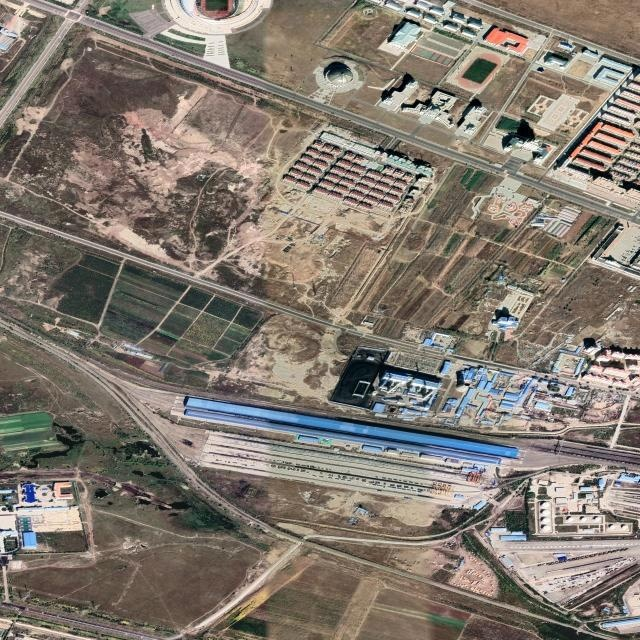coal_fired_power_plant: (328, 343, 575, 428)
